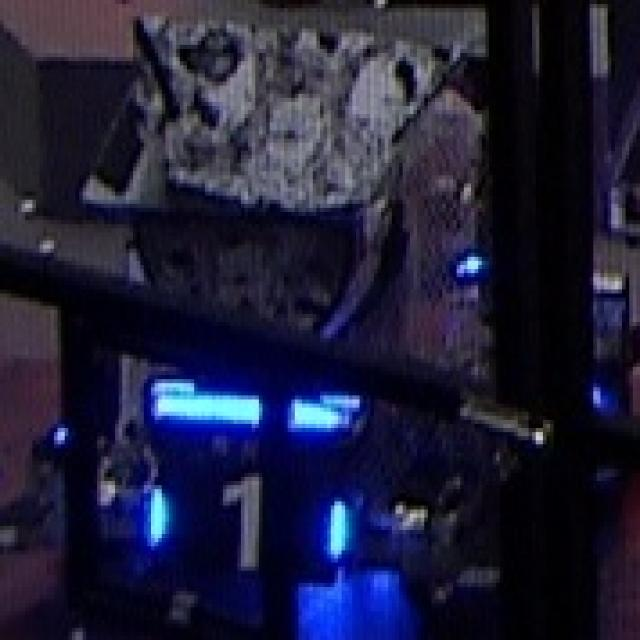B1: (124, 458, 347, 576)
